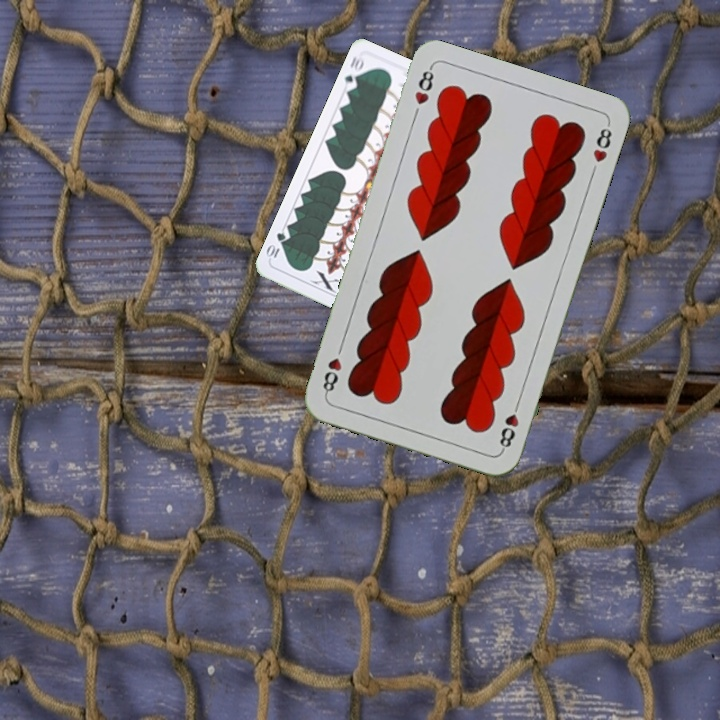G10: (340, 52, 367, 93)
H8: (495, 395, 523, 453), (410, 63, 437, 107)
